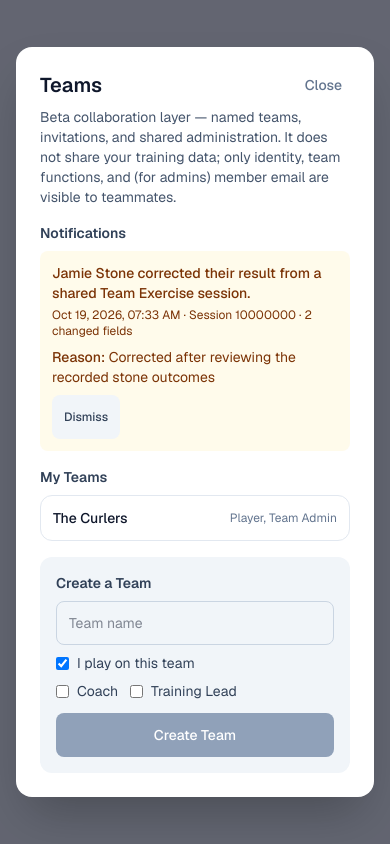
Test: TeamsScreen — signed in › shows only approved metadata for a Team Exercise result change and dismisses it
expect the text "Jamie Stone corrected their result" is shown: met, box [52,263,338,303]
expect the text "Oct 19, 2026, 07:33 AM · Session 10000000 · 2 changed fields" is shown: met, box [52,307,338,339]
Step 1. Click the button "Dismiss" → (86, 417), box [52,395,120,439]
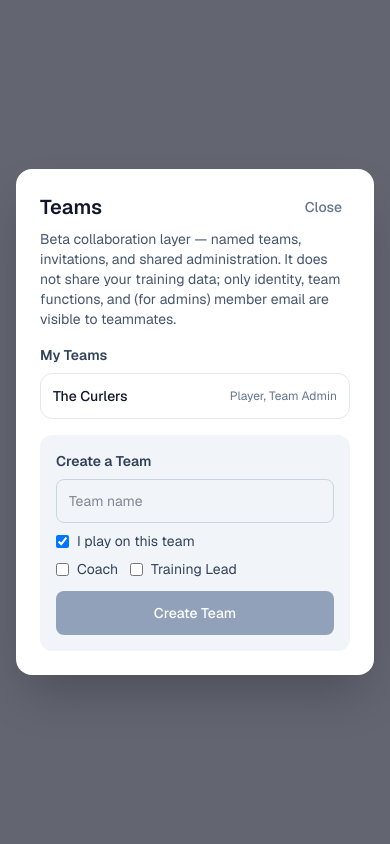
expect the text "Jamie Stone corrected their result" is gone: met
